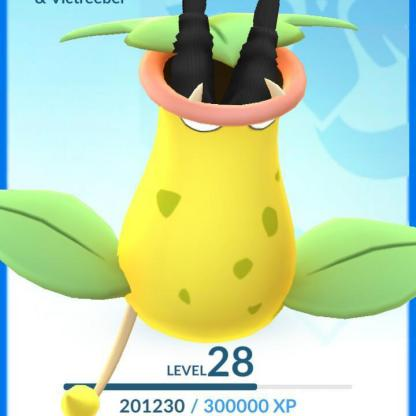Victreebel: (1, 1, 416, 355)
